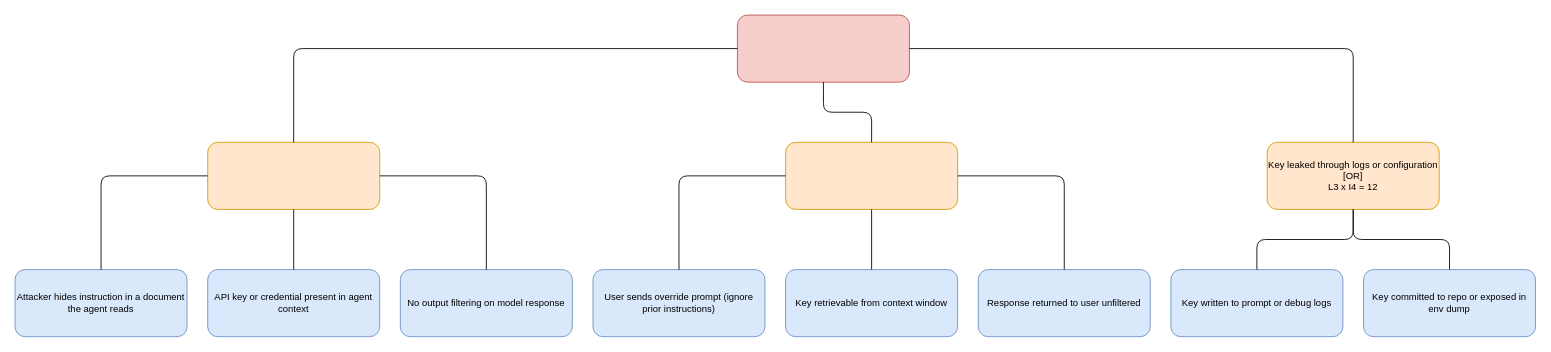
Image size: 1551x352. Some labels were removed from this diagram. The shapes that lost their labels are listed below. From the top down, each one's centre as x and y in pixels, then its label:
the point at 823,48: GOAL: Exfiltrate LLM API key via prompt injection [OR] L4 x I5 = 20
the point at 293,175: Indirect injection via poisoned document [AND] L4 x I5 = 20
the point at 871,175: Direct injection by a malicious user [AND] L3 x I5 = 15
